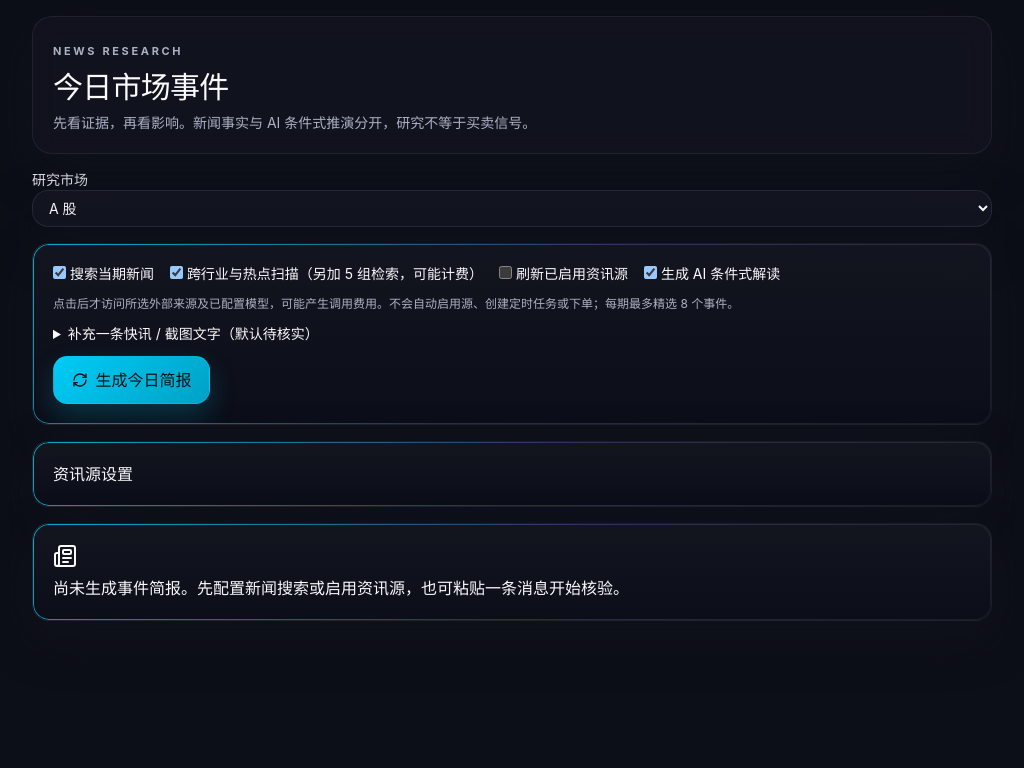
it: MarketEventsPage › displays real progress and aborts polling on unmount, not server work
The image size is (1024, 768).
Expected: the text "尚未生成事件简报。先配置新闻搜索或启用资讯源，也可粘贴一条消息开始核验。" is shown, [53,578,629,598]
Click the button "生成今日简报" at x=132, y=380, box [53,356,210,404]
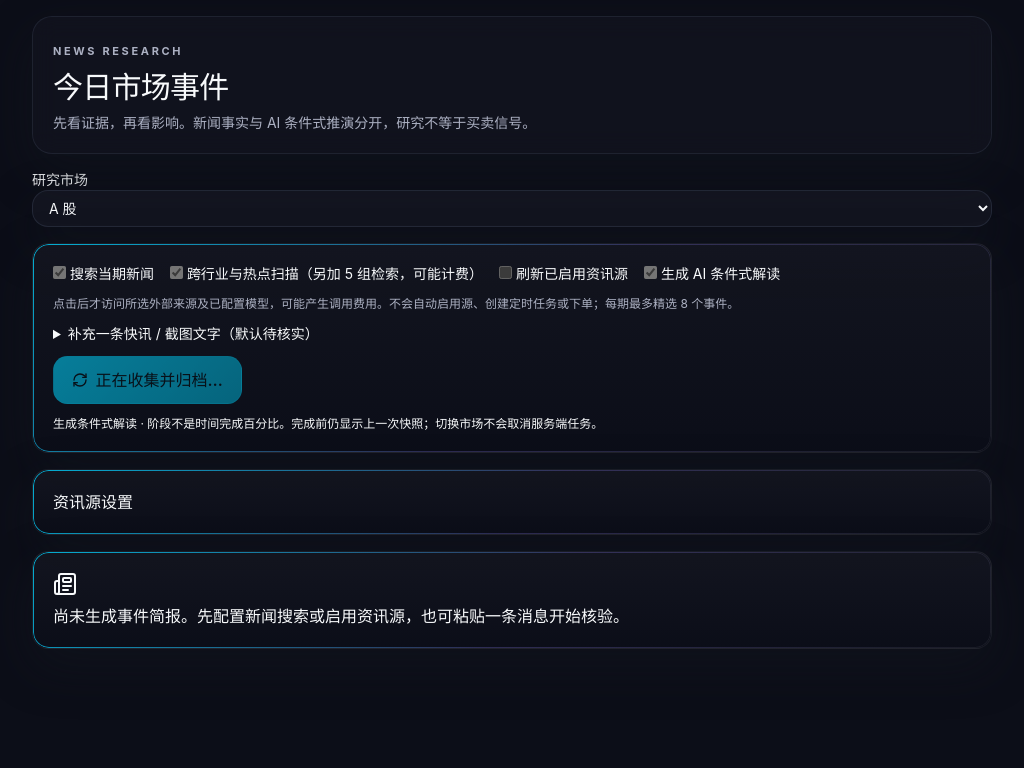
Result: the text "生成条件式解读 · 阶段不是时间完成百分比。完成前仍显示上一次快照；切换市场不会取消服务端任务。" is shown at [53,416,603,431]
